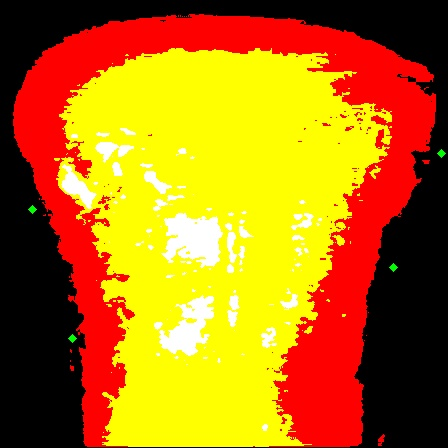coin_1: (72, 338, 92, 358)
coin_2: (32, 209, 52, 229)
coin_3: (393, 267, 413, 287)
coin_4: (441, 153, 448, 173)
